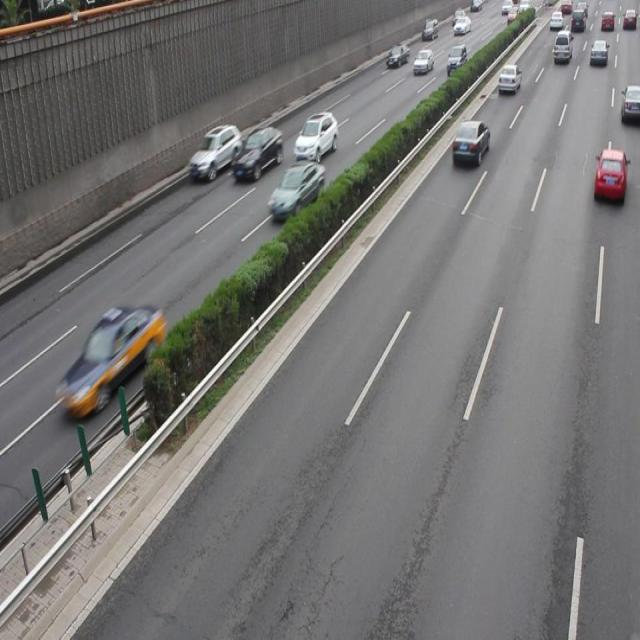car: (55, 303, 164, 422), (267, 158, 325, 224), (188, 123, 241, 183), (231, 123, 283, 183), (294, 110, 338, 162), (592, 147, 626, 205), (452, 119, 489, 167)
